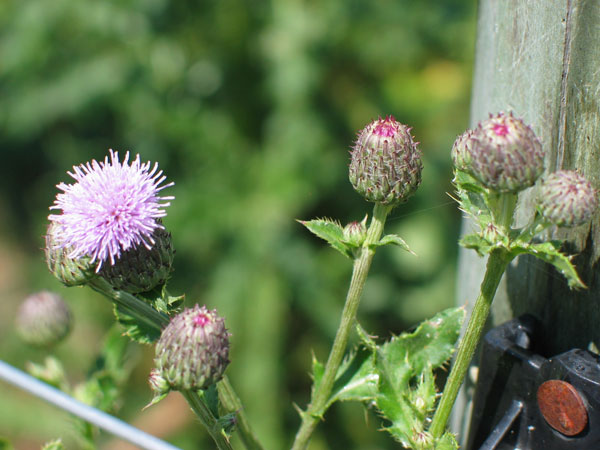thistle: (47, 151, 184, 287)
